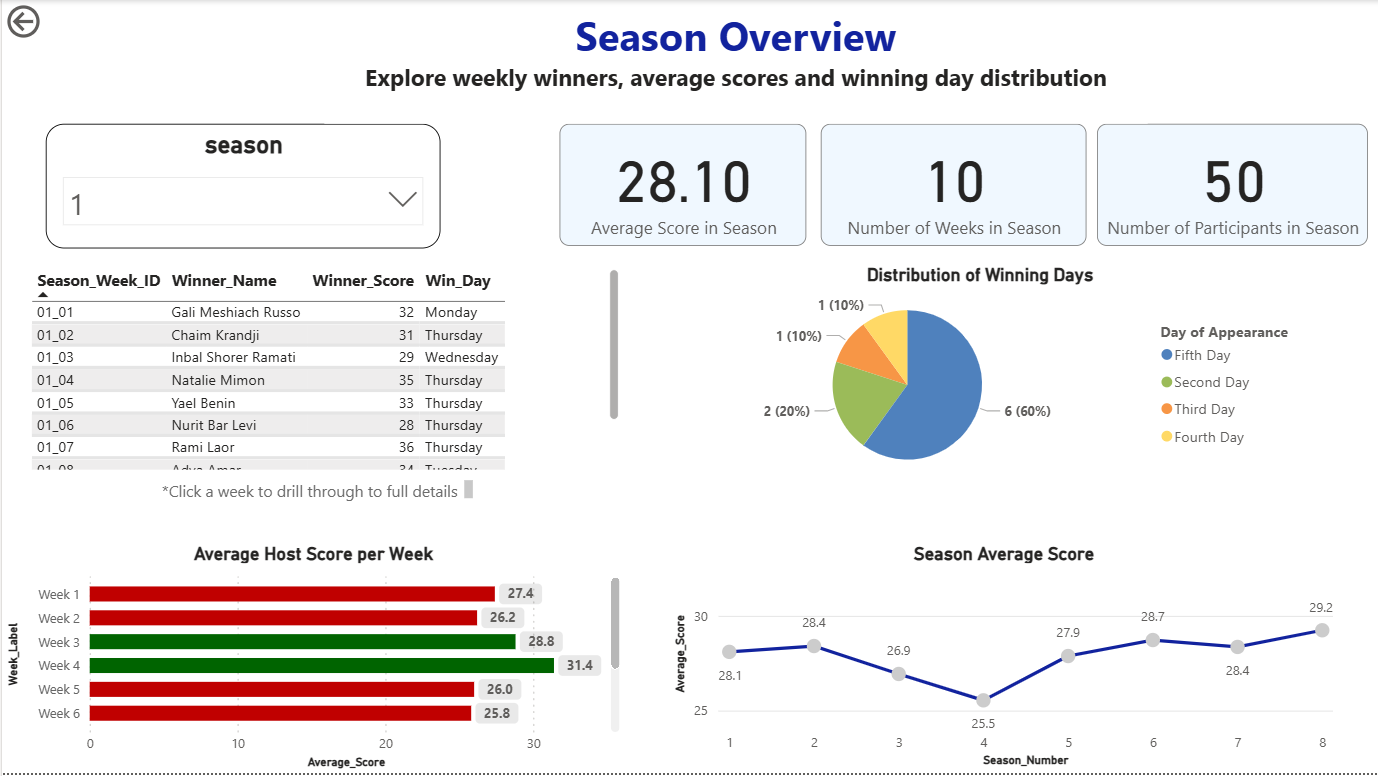

The dashboard page shown, as its layout file describes it:
{"tool":"powerbi","page":{"name":"page 1","canvas":[1280,720],"ordinal":0},"visuals":[{"type":"slicer","title":"season","fields":{"Values":["weeks.season"]},"box":[40.4,114.9,366.8,116.2],"z":0},{"type":"actionButton","box":[0,0,100,40],"z":1000},{"type":"clusteredBarChart","title":"Average Host Score per Week","fields":{"Y":["overall_scores.week_avg"],"Category":["weeks.Week_Label"]},"box":[0,505,579.6,215.2],"z":3000},{"type":"card","fields":{"Values":["overall_scores.Season_Average_Score"]},"box":[518.5,114.9,229.9,113.7],"z":4000},{"type":"card","fields":{"Values":["CountNonNull(weeks.week)"]},"box":[761.8,114.9,247,113.7],"z":5000},{"type":"card","fields":{"Values":["CountNonNull(participants.participant_id)"]},"box":[1018.6,114.9,251.9,113.7],"z":6000},{"type":"tableEx","fields":{"Values":["weeks.season_week_id","weeks.winner_name","weeks.WinnerScoreFiltered","weeks.WinnerDayFiltered"]},"box":[20.8,247,558.8,194.4],"z":7000},{"type":"pieChart","title":"Distribution of Winning Days","fields":{"Y":["CountNonNull(weeks.season_week_id)"],"Category":["weeks.Winner_DayName"]},"box":[602.9,245.8,615.1,206.7],"z":8000},{"type":"lineChart","title":"Season Average Score","fields":{"Category":["weeks.SeasonSortKey"],"Y":["weeks.Selected_Season_Avg_Only"]},"box":[621.2,505,622.4,214],"z":9000},{"type":"textbox","box":[299.6,2.4,765.5,112.5],"z":10000},{"type":"textbox","box":[137,441.4,305.7,31.8],"z":11000}]}

Visuals, with their boxes in screenshot pixels (x1, y1, x2, y2), scaled from the page's 1280x720 canvas onto the 1378x776 screenshot:
"season" slicer: left=43, top=124, right=438, bottom=249
actionButton: left=0, top=0, right=108, bottom=43
"Average Host Score per Week" clusteredBarChart: left=0, top=544, right=624, bottom=775
card - overall_scores.Season_Average_Score: left=558, top=124, right=806, bottom=246
card - CountNonNull(weeks.week): left=820, top=124, right=1086, bottom=246
card - CountNonNull(participants.participant_id): left=1097, top=124, right=1368, bottom=246
tableEx - weeks.season_week_id x weeks.winner_name: left=22, top=266, right=624, bottom=476
"Distribution of Winning Days" pieChart: left=649, top=265, right=1311, bottom=488
"Season Average Score" lineChart: left=669, top=544, right=1339, bottom=775
textbox: left=323, top=3, right=1147, bottom=124
textbox: left=147, top=476, right=477, bottom=510
